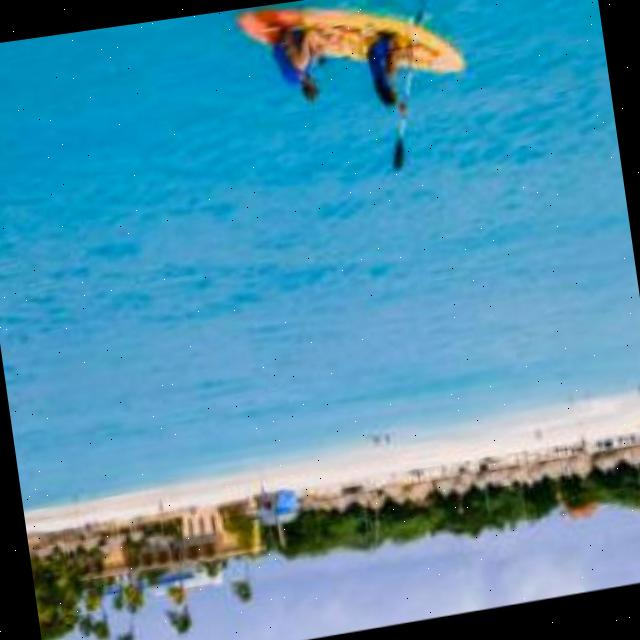kayak: (309, 17, 461, 70), (237, 15, 338, 45)
